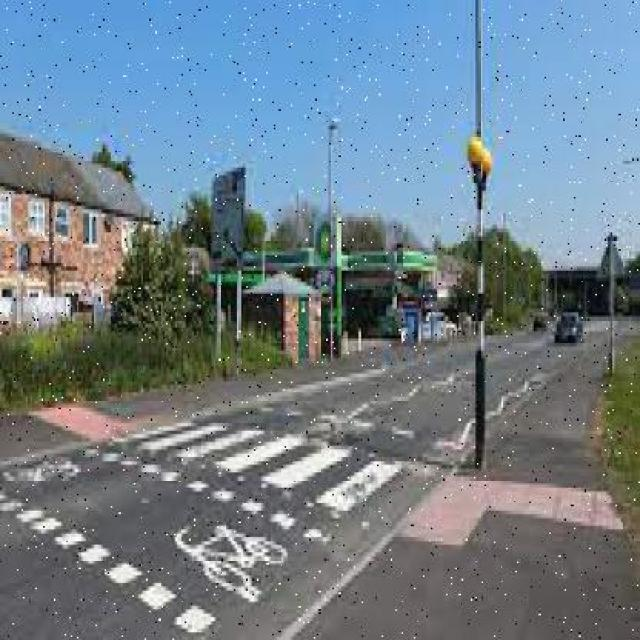crosswalk: (116, 420, 408, 516)
